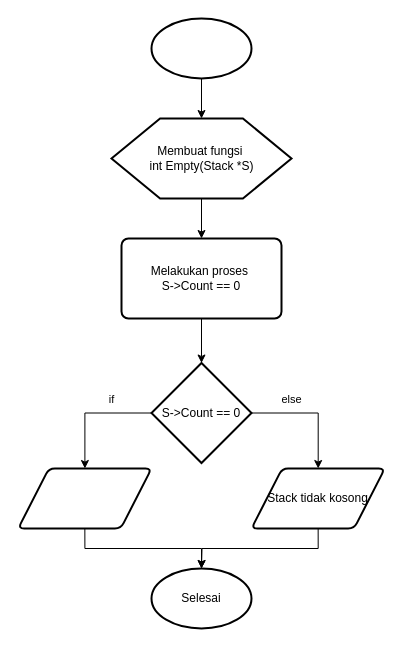
Image size: 403x646. Some labels were removed from this diagram. The shapes that lost their labels are listed below. From the top down, each one's box as (x1, y1, x2, y2) in pixels, then its label:
(150, 17, 252, 79): Mulai
(17, 467, 152, 529): Stack kosong
